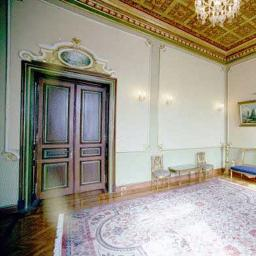Puerta: (35, 72, 114, 194)
